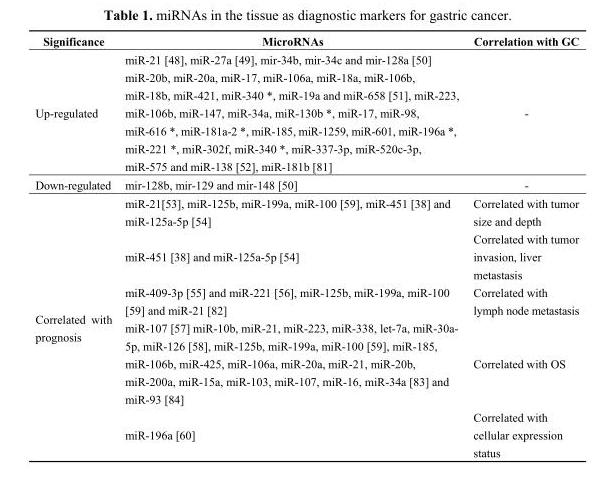table: (34, 34, 578, 458)
table column: (117, 34, 465, 458), (465, 34, 578, 458), (34, 34, 117, 458)
table column header: (34, 34, 578, 49)
table row: (34, 68, 578, 175), (34, 318, 578, 407), (34, 229, 578, 283), (34, 407, 578, 458), (34, 193, 578, 229), (34, 283, 578, 318), (34, 49, 578, 68), (34, 175, 578, 193), (34, 34, 578, 49)
table spanning cell: (34, 193, 117, 458), (465, 49, 578, 175), (34, 49, 117, 175)
